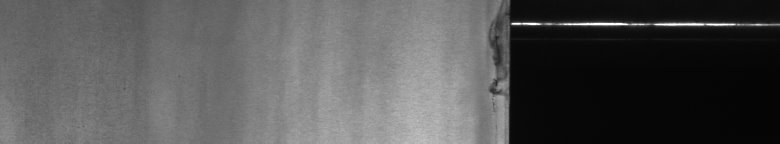hb: (481, 4, 500, 116)
